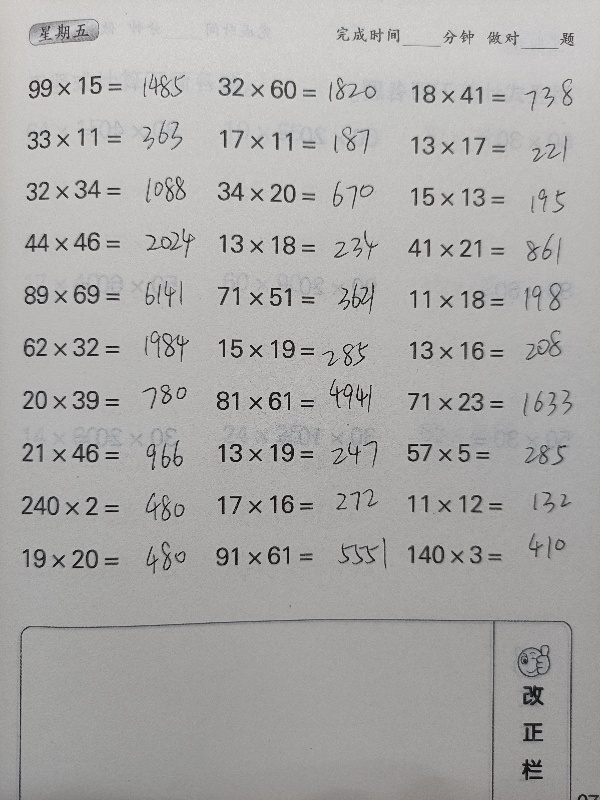equation: (210, 331, 390, 373), (210, 70, 390, 109), (15, 276, 195, 312), (14, 541, 194, 576), (207, 537, 387, 572), (399, 536, 579, 571), (13, 488, 193, 523), (210, 435, 390, 470), (14, 435, 194, 470), (14, 383, 194, 418), (15, 329, 195, 364), (211, 227, 391, 262), (208, 174, 388, 209), (17, 172, 197, 207), (18, 120, 198, 155), (19, 68, 199, 103), (400, 487, 580, 521), (209, 487, 389, 521), (399, 436, 579, 470), (400, 385, 580, 419), (208, 384, 388, 418), (401, 333, 581, 367), (402, 283, 582, 317), (209, 279, 389, 313), (16, 225, 196, 259), (401, 180, 581, 214), (403, 129, 583, 163), (211, 124, 391, 158), (400, 232, 580, 265), (403, 78, 583, 111)
